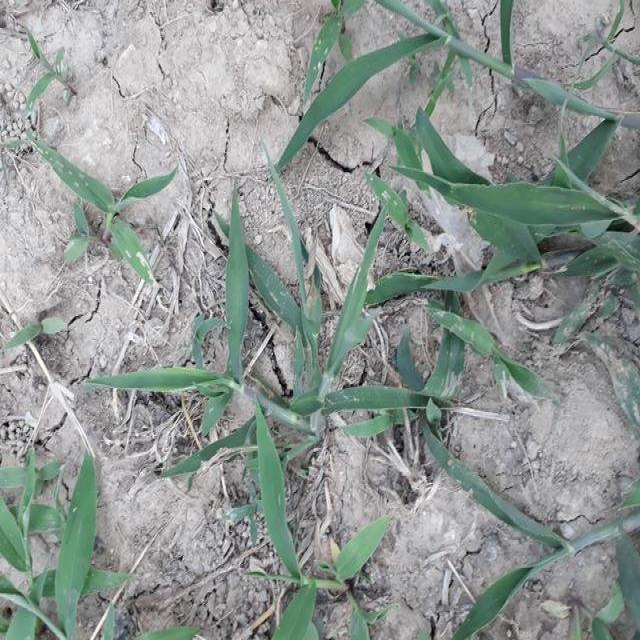weed: (447, 443, 640, 640), (406, 123, 640, 261), (214, 273, 391, 452), (0, 449, 97, 640), (233, 450, 343, 600), (50, 161, 172, 249)
